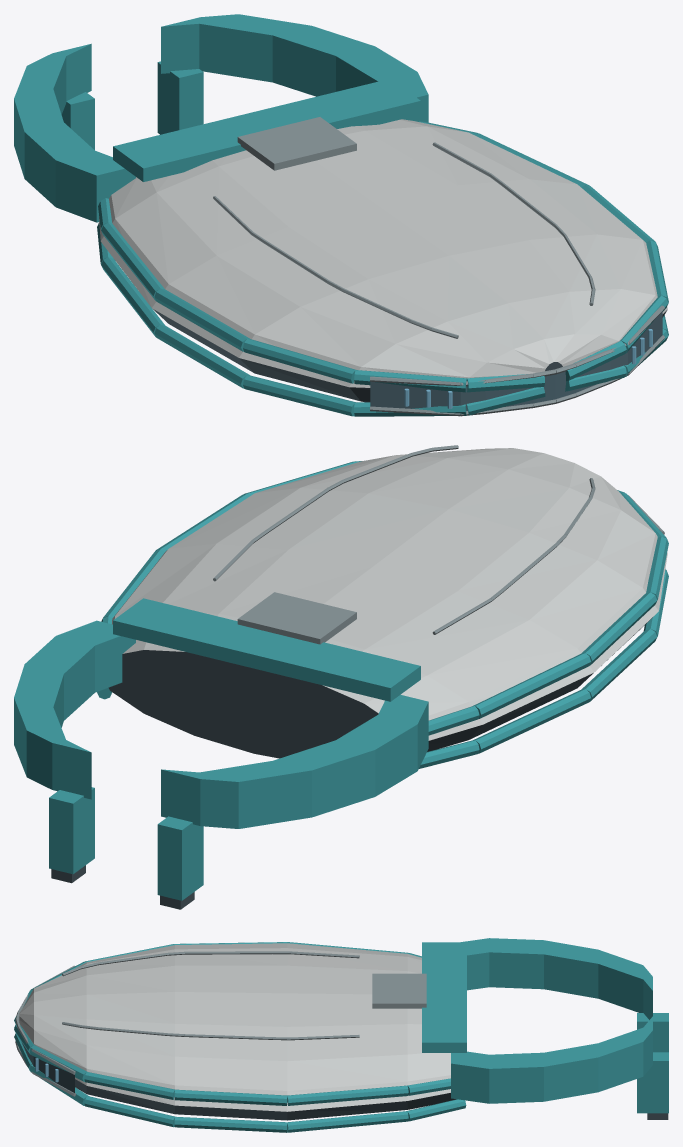
Rendered from rayfam_teal_off.glb.
3 renders of one model, top to bottom at view 1: azimuth 30°, elevation 25°; view 2: azimuth 150°, elevation 25°; view 3: azimuth 270°, elevation 25°, orthographic. The views are drawn at different scales.
Parts seen in each view (by area): view 1: material_0, material_2, material_3, material_4, material_1, material_5; view 2: material_0, material_2, material_1, material_3; view 3: material_0, material_2, material_3, material_1, material_4.
Part boxes in pixels (x1=…): material_0: x1=99, y1=119, x2=667, y2=387; material_2: x1=14, y1=14, x2=668, y2=416; material_3: x1=213, y1=117, x2=664, y2=416; material_4: x1=370, y1=311, x2=662, y2=410; material_1: x1=152, y1=308, x2=667, y2=402; material_5: x1=404, y1=329, x2=652, y2=408; material_0: x1=112, y1=448, x2=667, y2=740; material_2: x1=14, y1=461, x2=668, y2=900; material_1: x1=51, y1=617, x2=652, y2=909; material_3: x1=213, y1=445, x2=664, y2=644; material_0: x1=19, y1=943, x2=450, y2=1111; material_2: x1=14, y1=938, x2=668, y2=1132; material_3: x1=15, y1=951, x2=426, y2=1096; material_1: x1=75, y1=1079, x2=668, y2=1120; material_4: x1=21, y1=1042, x2=74, y2=1093.
Size of the model in its own units: 17.71 by 5.57 by 30.64.
